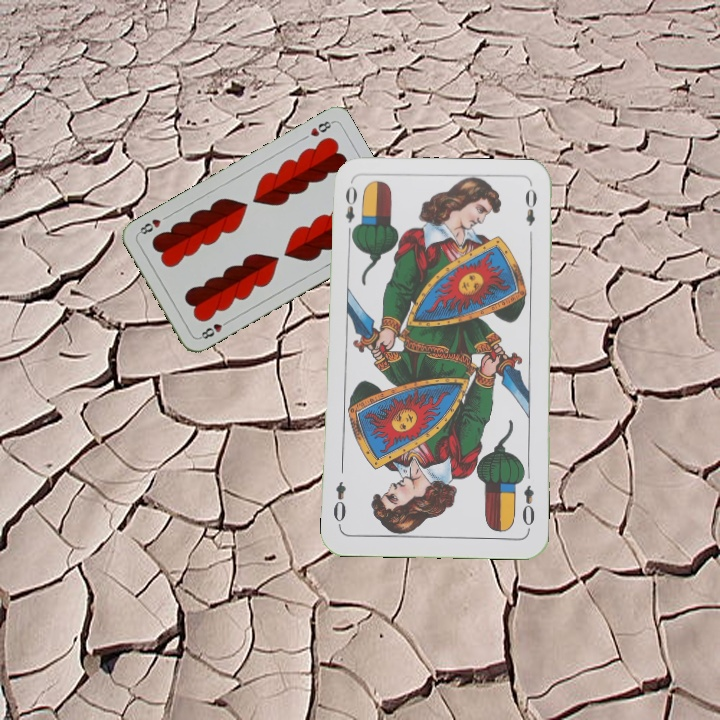EO: (341, 182, 360, 240), (518, 481, 538, 533)
H8: (195, 316, 232, 342), (306, 117, 335, 139)
